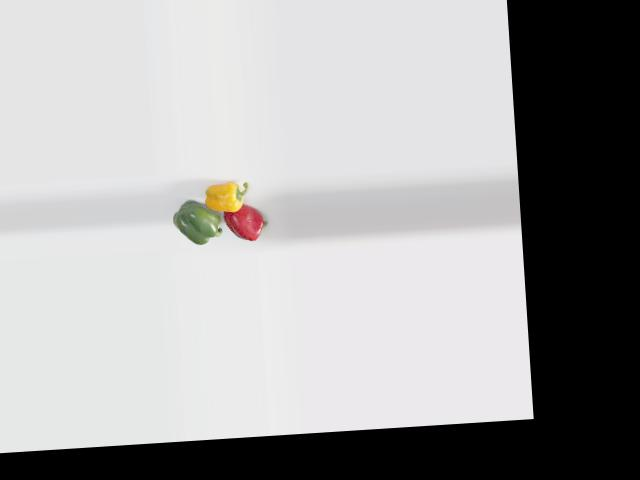bell_pepper: (203, 177, 250, 220)
